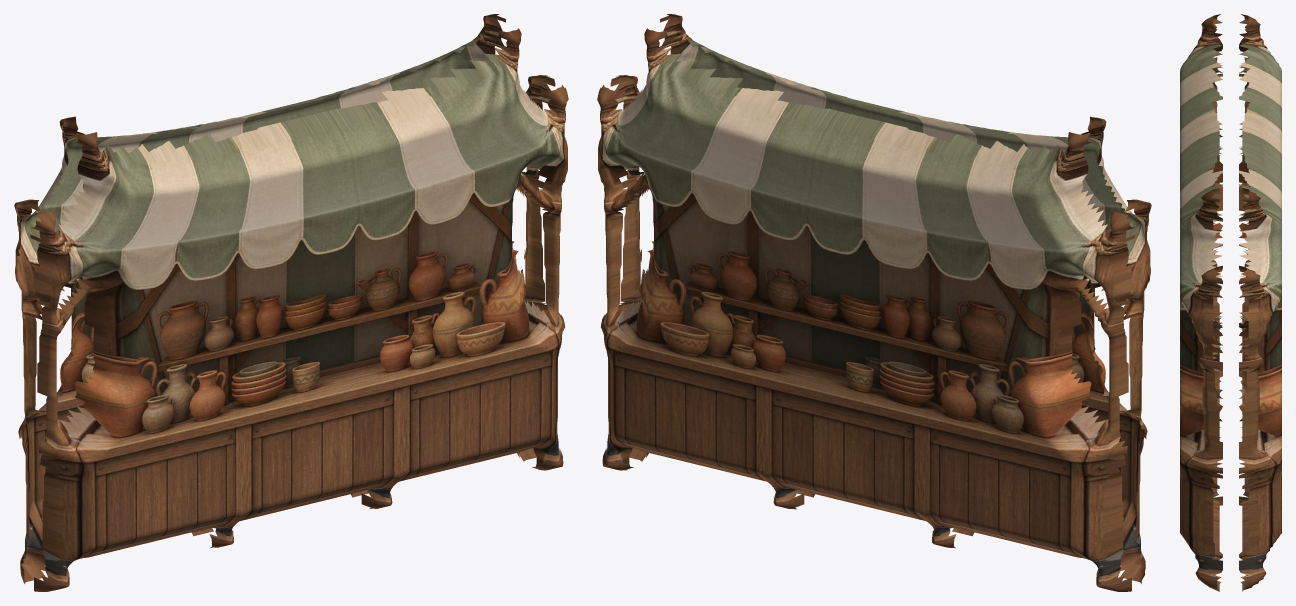
The model's file is v4-market-street-scatter-pottery-stall.glb.
3 renders of one model, left to right at view 1: azimuth 30°, elevation 25°; view 2: azimuth 150°, elevation 25°; view 3: azimuth 270°, elevation 25°, orthographic. The views are drawn at different scales.
Parts seen in each view (by area): view 1: v4-market-street-scatter-pottery-stall; view 2: v4-market-street-scatter-pottery-stall; view 3: v4-market-street-scatter-pottery-stall.
Boxes of the visible parts, x1,y1,x2,y2 form: v4-market-street-scatter-pottery-stall: (14,14,568,591); v4-market-street-scatter-pottery-stall: (597,14,1151,591); v4-market-street-scatter-pottery-stall: (1180,14,1281,591).
Size of the model in its own units: 1.22 by 0.9845 by 0.24.
Materials: 1 (1 with a texture image).
